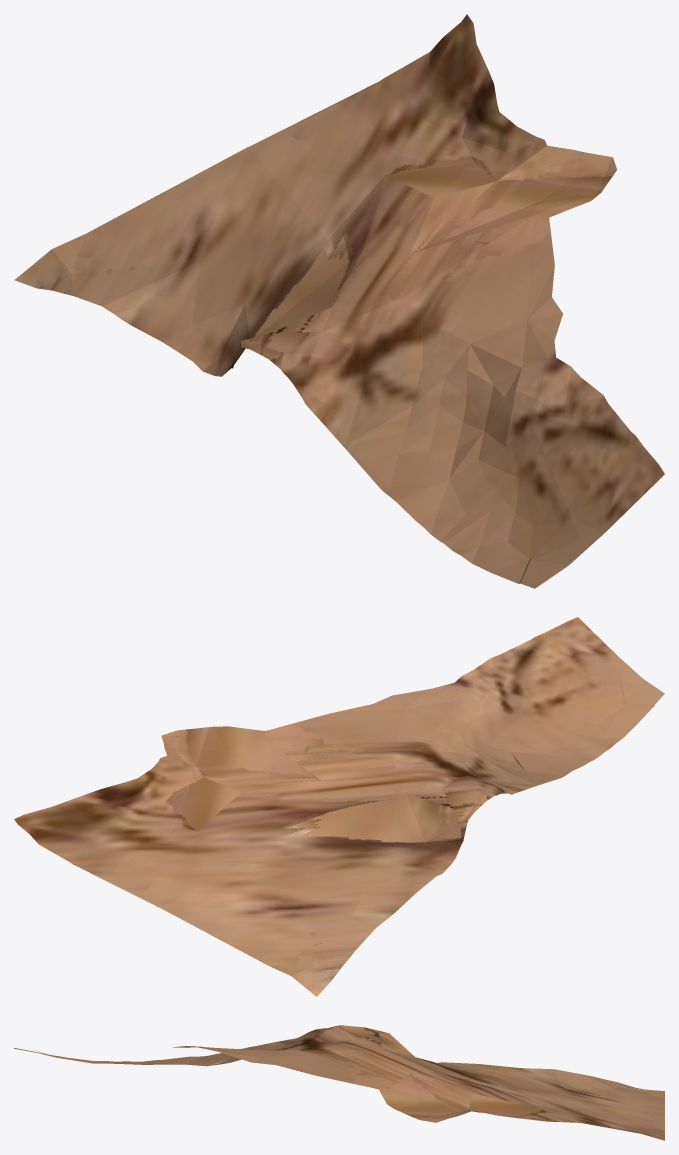
3 views of the same model, one above another, from view 1: azimuth 30°, elevation 25°; view 2: azimuth 150°, elevation 25°; view 3: azimuth 270°, elevation 25° (orthographic). The views are drawn at different scales.
Bounding box in the file's own units: 0.5245 × 0.1719 × 1.04.
Materials: 1 (1 with a texture image).
